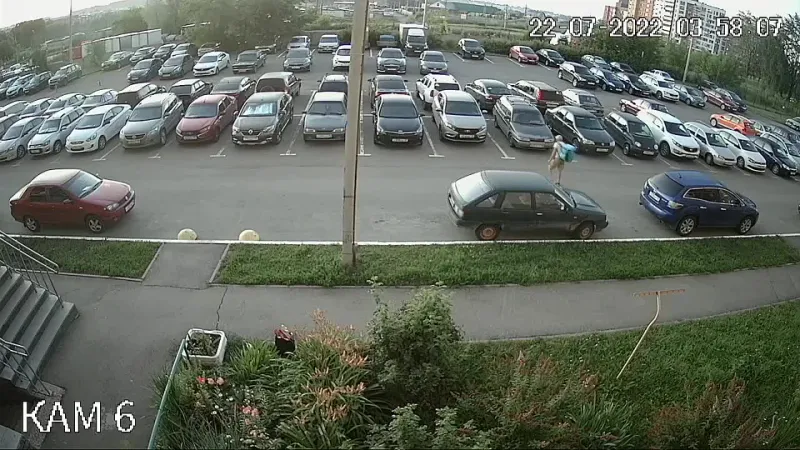Car: (446, 170, 609, 241), (8, 168, 137, 233), (638, 169, 761, 236), (120, 93, 183, 149), (545, 105, 615, 155), (493, 95, 555, 150), (232, 92, 294, 146), (65, 104, 131, 154), (637, 109, 700, 160), (175, 94, 239, 144), (432, 90, 488, 142), (27, 106, 84, 156), (373, 94, 425, 145), (603, 111, 658, 158), (685, 121, 736, 167), (301, 92, 348, 141), (716, 129, 765, 173), (0, 116, 45, 163), (749, 137, 797, 177), (509, 78, 565, 112), (415, 74, 462, 110), (464, 77, 512, 112), (762, 132, 800, 175), (211, 75, 256, 107), (254, 72, 303, 99), (369, 74, 411, 105), (168, 78, 212, 107), (562, 89, 605, 118), (116, 83, 167, 107), (557, 62, 600, 89), (640, 73, 680, 102), (43, 92, 87, 117), (709, 113, 756, 136), (193, 51, 230, 77), (399, 24, 428, 56), (80, 88, 118, 112), (589, 67, 625, 92), (159, 54, 193, 80), (232, 49, 267, 74), (127, 58, 161, 83), (616, 72, 650, 97), (671, 84, 705, 108), (715, 87, 747, 112), (316, 73, 349, 97), (376, 49, 407, 74), (703, 90, 738, 112), (49, 64, 81, 88), (282, 48, 314, 72), (619, 99, 669, 114), (5, 74, 34, 99), (20, 98, 54, 119), (420, 51, 449, 75), (772, 125, 800, 149), (24, 71, 51, 95), (508, 45, 539, 65), (101, 51, 132, 70), (457, 38, 485, 59), (537, 48, 564, 68), (254, 35, 282, 54), (582, 54, 613, 71), (317, 32, 340, 53), (332, 45, 351, 70), (0, 101, 29, 117), (644, 69, 675, 83), (130, 47, 155, 64), (0, 115, 19, 137), (0, 77, 18, 100), (170, 43, 199, 57), (747, 120, 772, 136), (151, 44, 175, 60), (287, 35, 311, 50), (377, 34, 399, 49), (197, 43, 219, 56), (610, 63, 635, 73), (785, 116, 800, 131), (697, 80, 717, 90)
